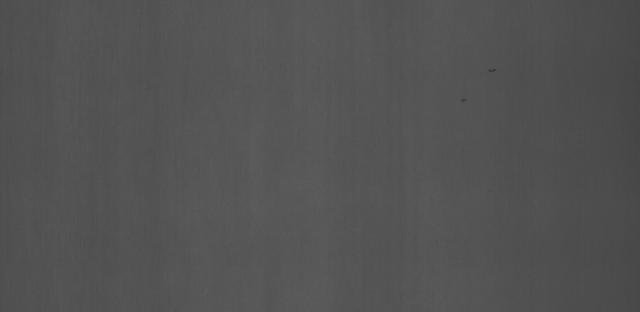inclusion: (454, 90, 483, 108), (483, 58, 502, 82)
